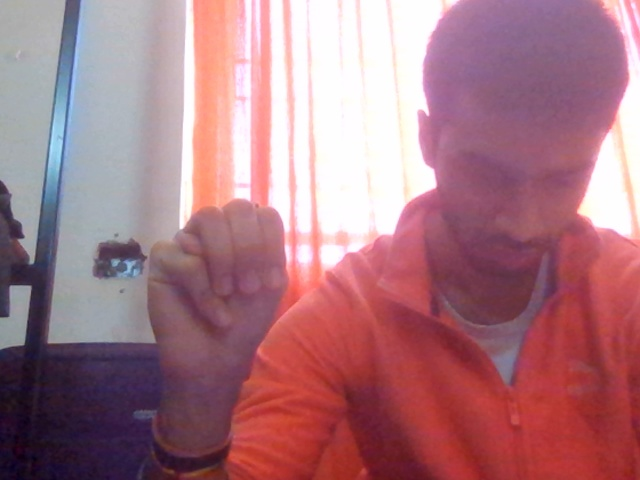M: (101, 186, 347, 416)
